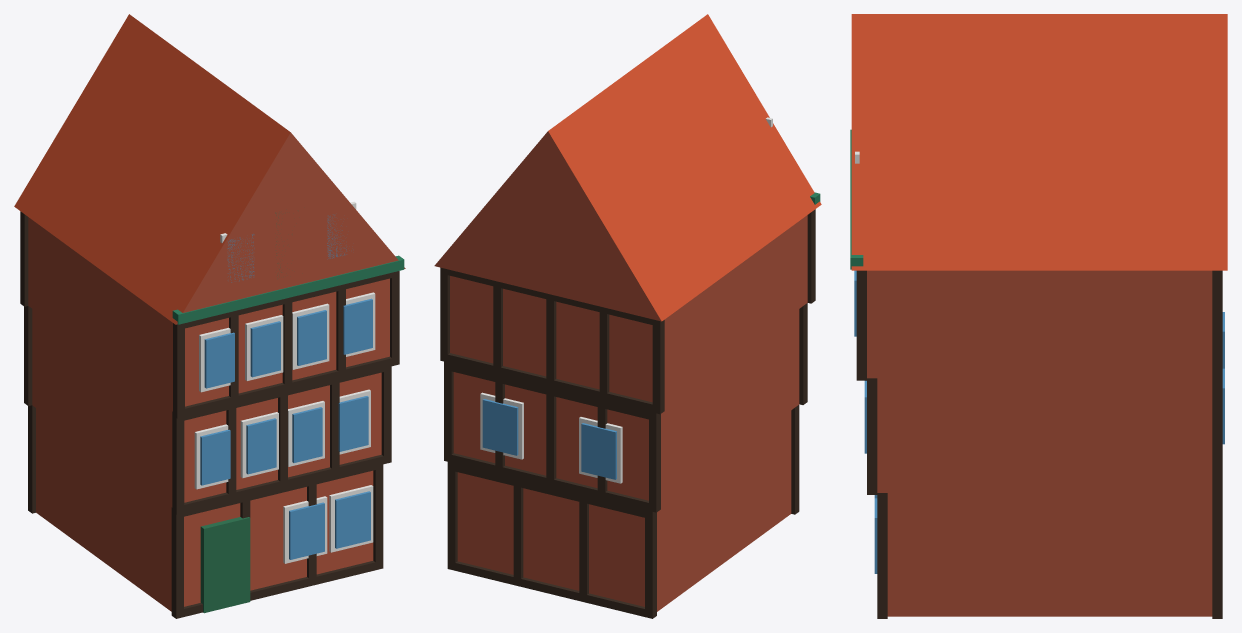
Rendered from 10_stade_brick_1.obj.
The picture shows the model from 3 angles, left to right: view 1: azimuth 30°, elevation 25°; view 2: azimuth 150°, elevation 25°; view 3: azimuth 270°, elevation 25°; orthographic projection. The views are drawn at different scales.
Visible parts, largest first — view 1: 10_stade_brick_1; view 2: 10_stade_brick_1; view 3: 10_stade_brick_1.
Part boxes in pixels (<box>): 10_stade_brick_1: <box>14,14,405,618</box>; 10_stade_brick_1: <box>434,14,821,618</box>; 10_stade_brick_1: <box>850,14,1227,618</box>.
Size of the model in its own units: 1.2 by 2.34 by 1.46.
